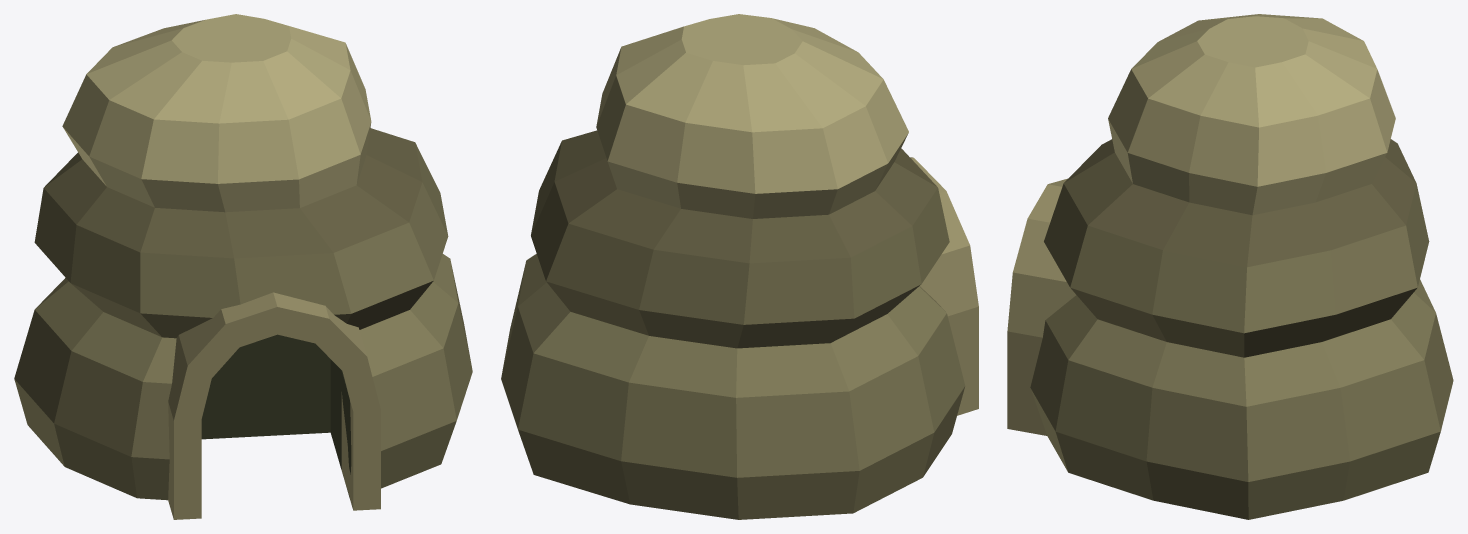
The model's file is hive_b.obj.
3 renders of one model, left to right at view 1: azimuth 30°, elevation 25°; view 2: azimuth 150°, elevation 25°; view 3: azimuth 270°, elevation 25°, orthographic. The views are drawn at different scales.
Visible parts, largest first — view 1: hive_b; view 2: hive_b; view 3: hive_b.
Part boxes in pixels (left/top/right/bottom): hive_b: left=14, top=14, right=472, bottom=519; hive_b: left=501, top=14, right=978, bottom=519; hive_b: left=1007, top=14, right=1453, bottom=519.
Bounding box in the file's own units: 0.9298 × 0.83 × 0.8891.
